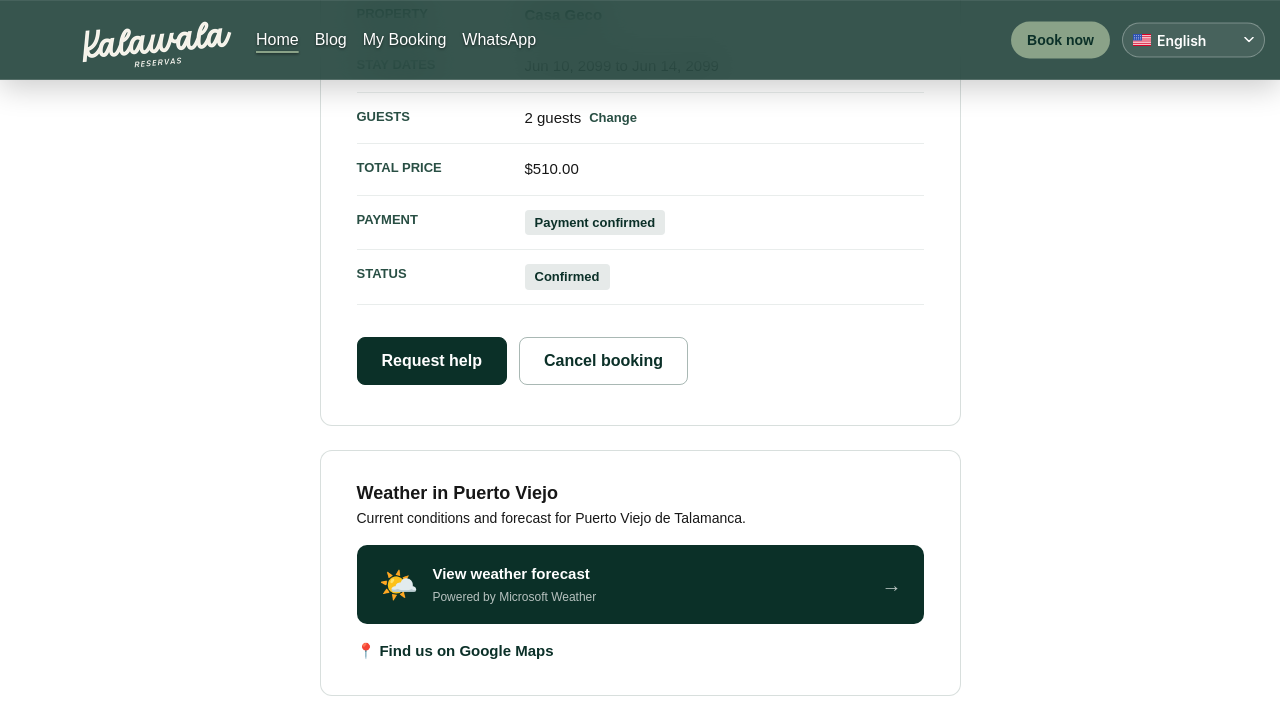
Test: a provider failure tells the guest nothing changed
(page scrolled)
Click the button "Cancel booking" at (604, 361), box left=519, top=337, right=688, bottom=385
(page scrolled)
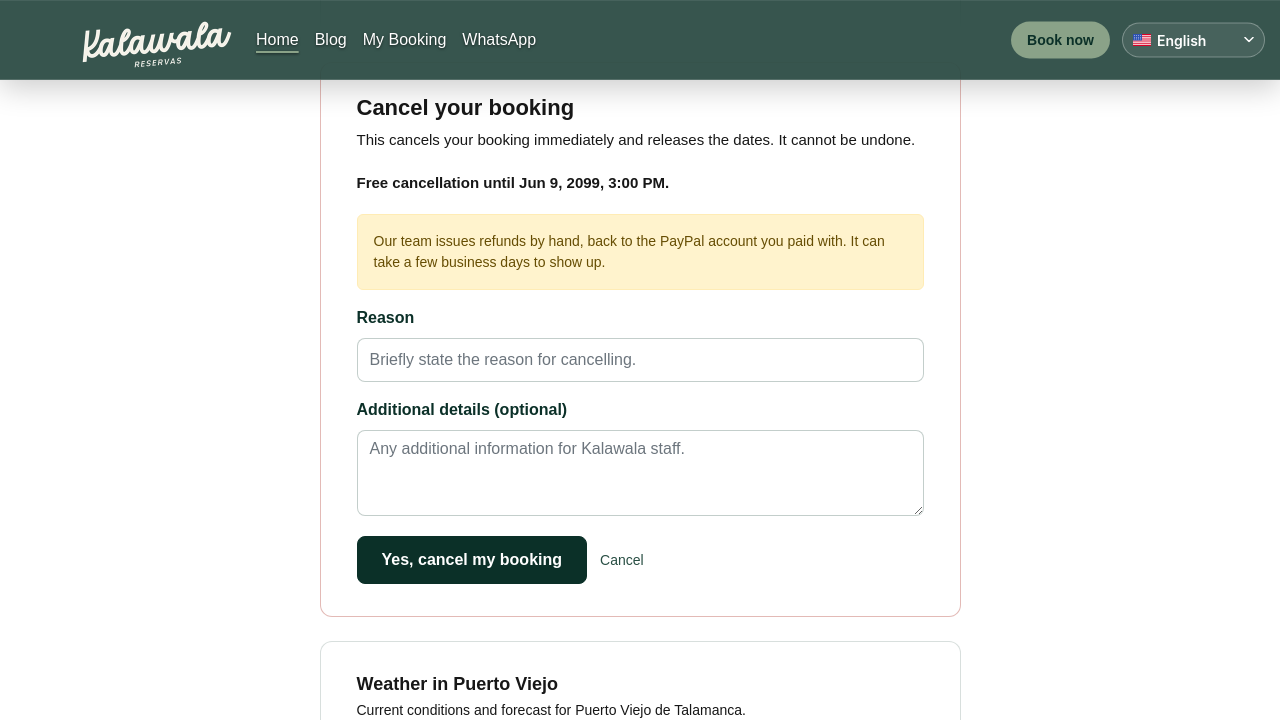
Type "plans changed" into the field labelled "Reason" at (640, 360), box left=356, top=338, right=924, bottom=382
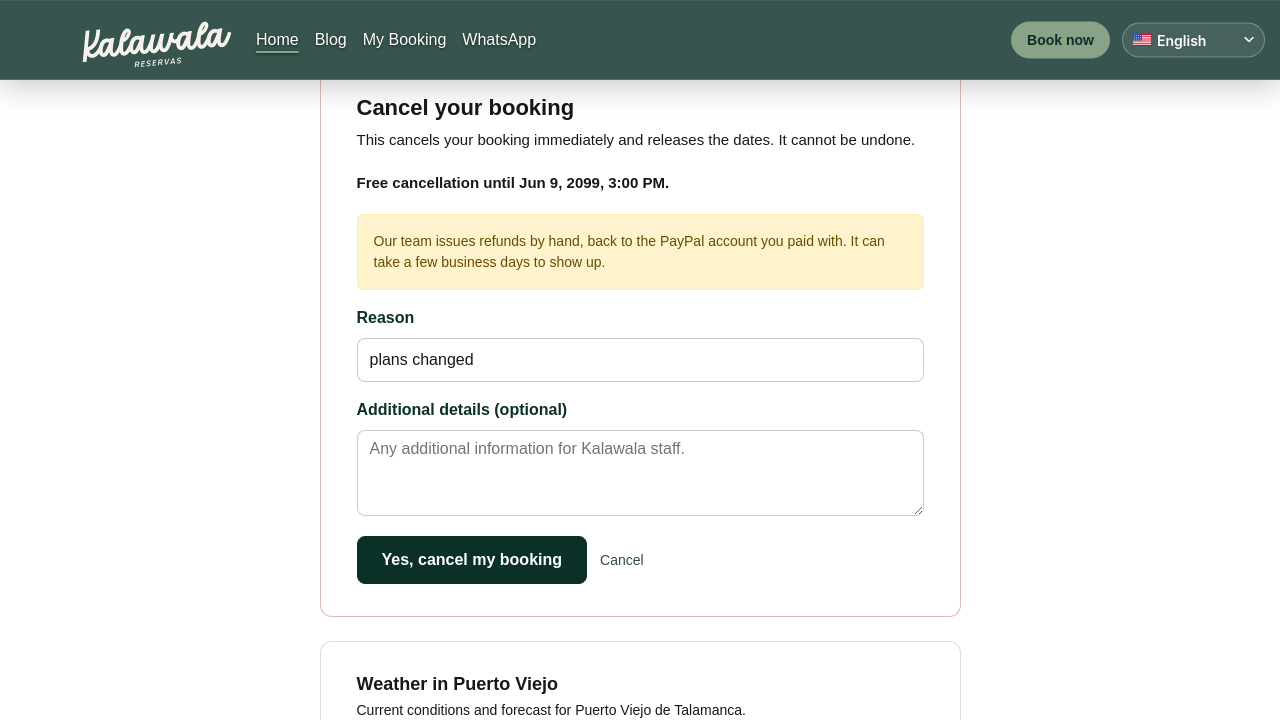
Click the button "Yes, cancel my booking" at (472, 560), box left=356, top=536, right=587, bottom=584
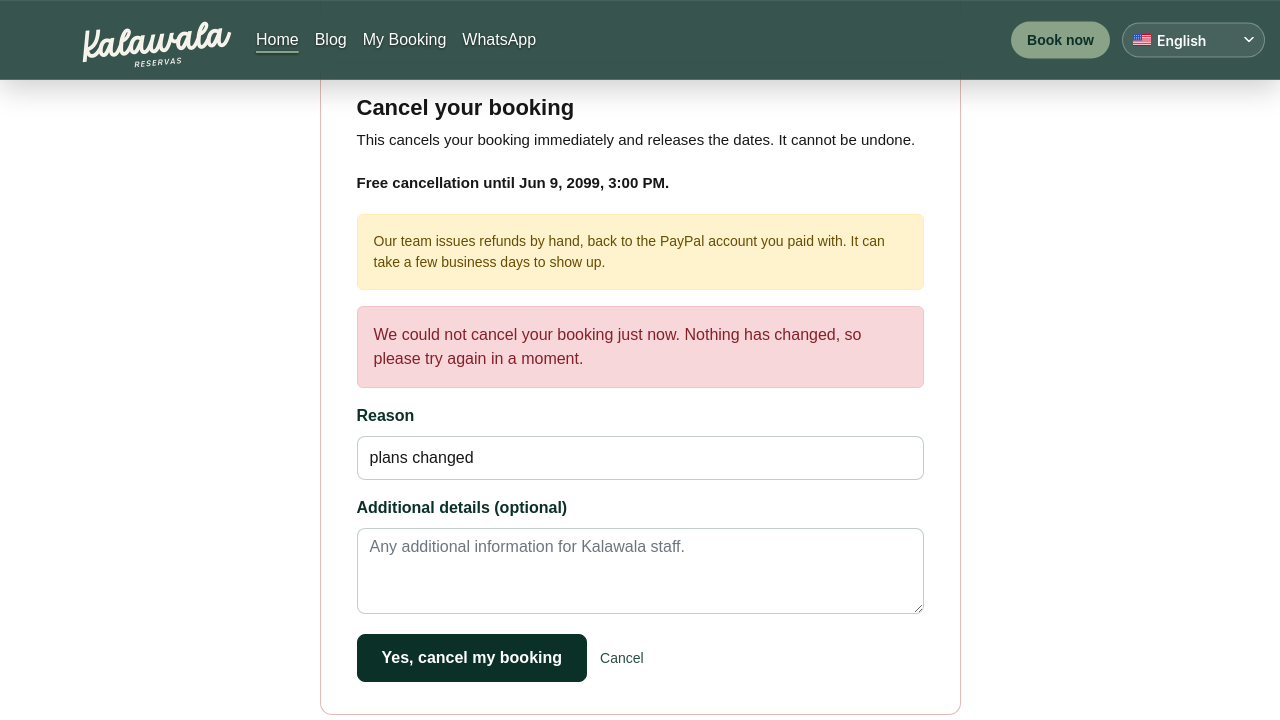
expect the text "Nothing has changed" is shown: met, box left=374, top=326, right=862, bottom=367
